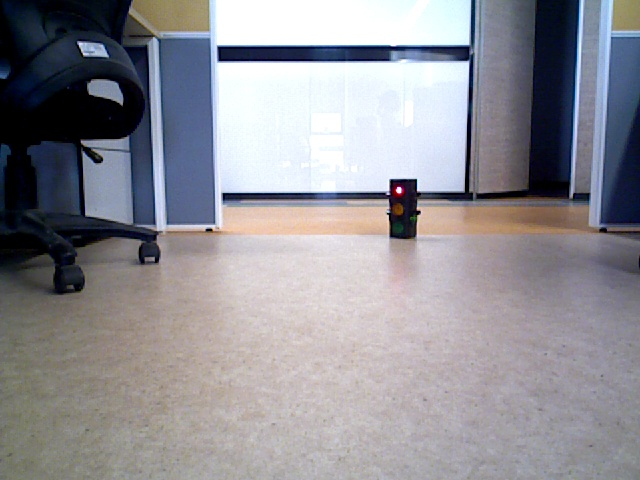red: (391, 177, 412, 235)
